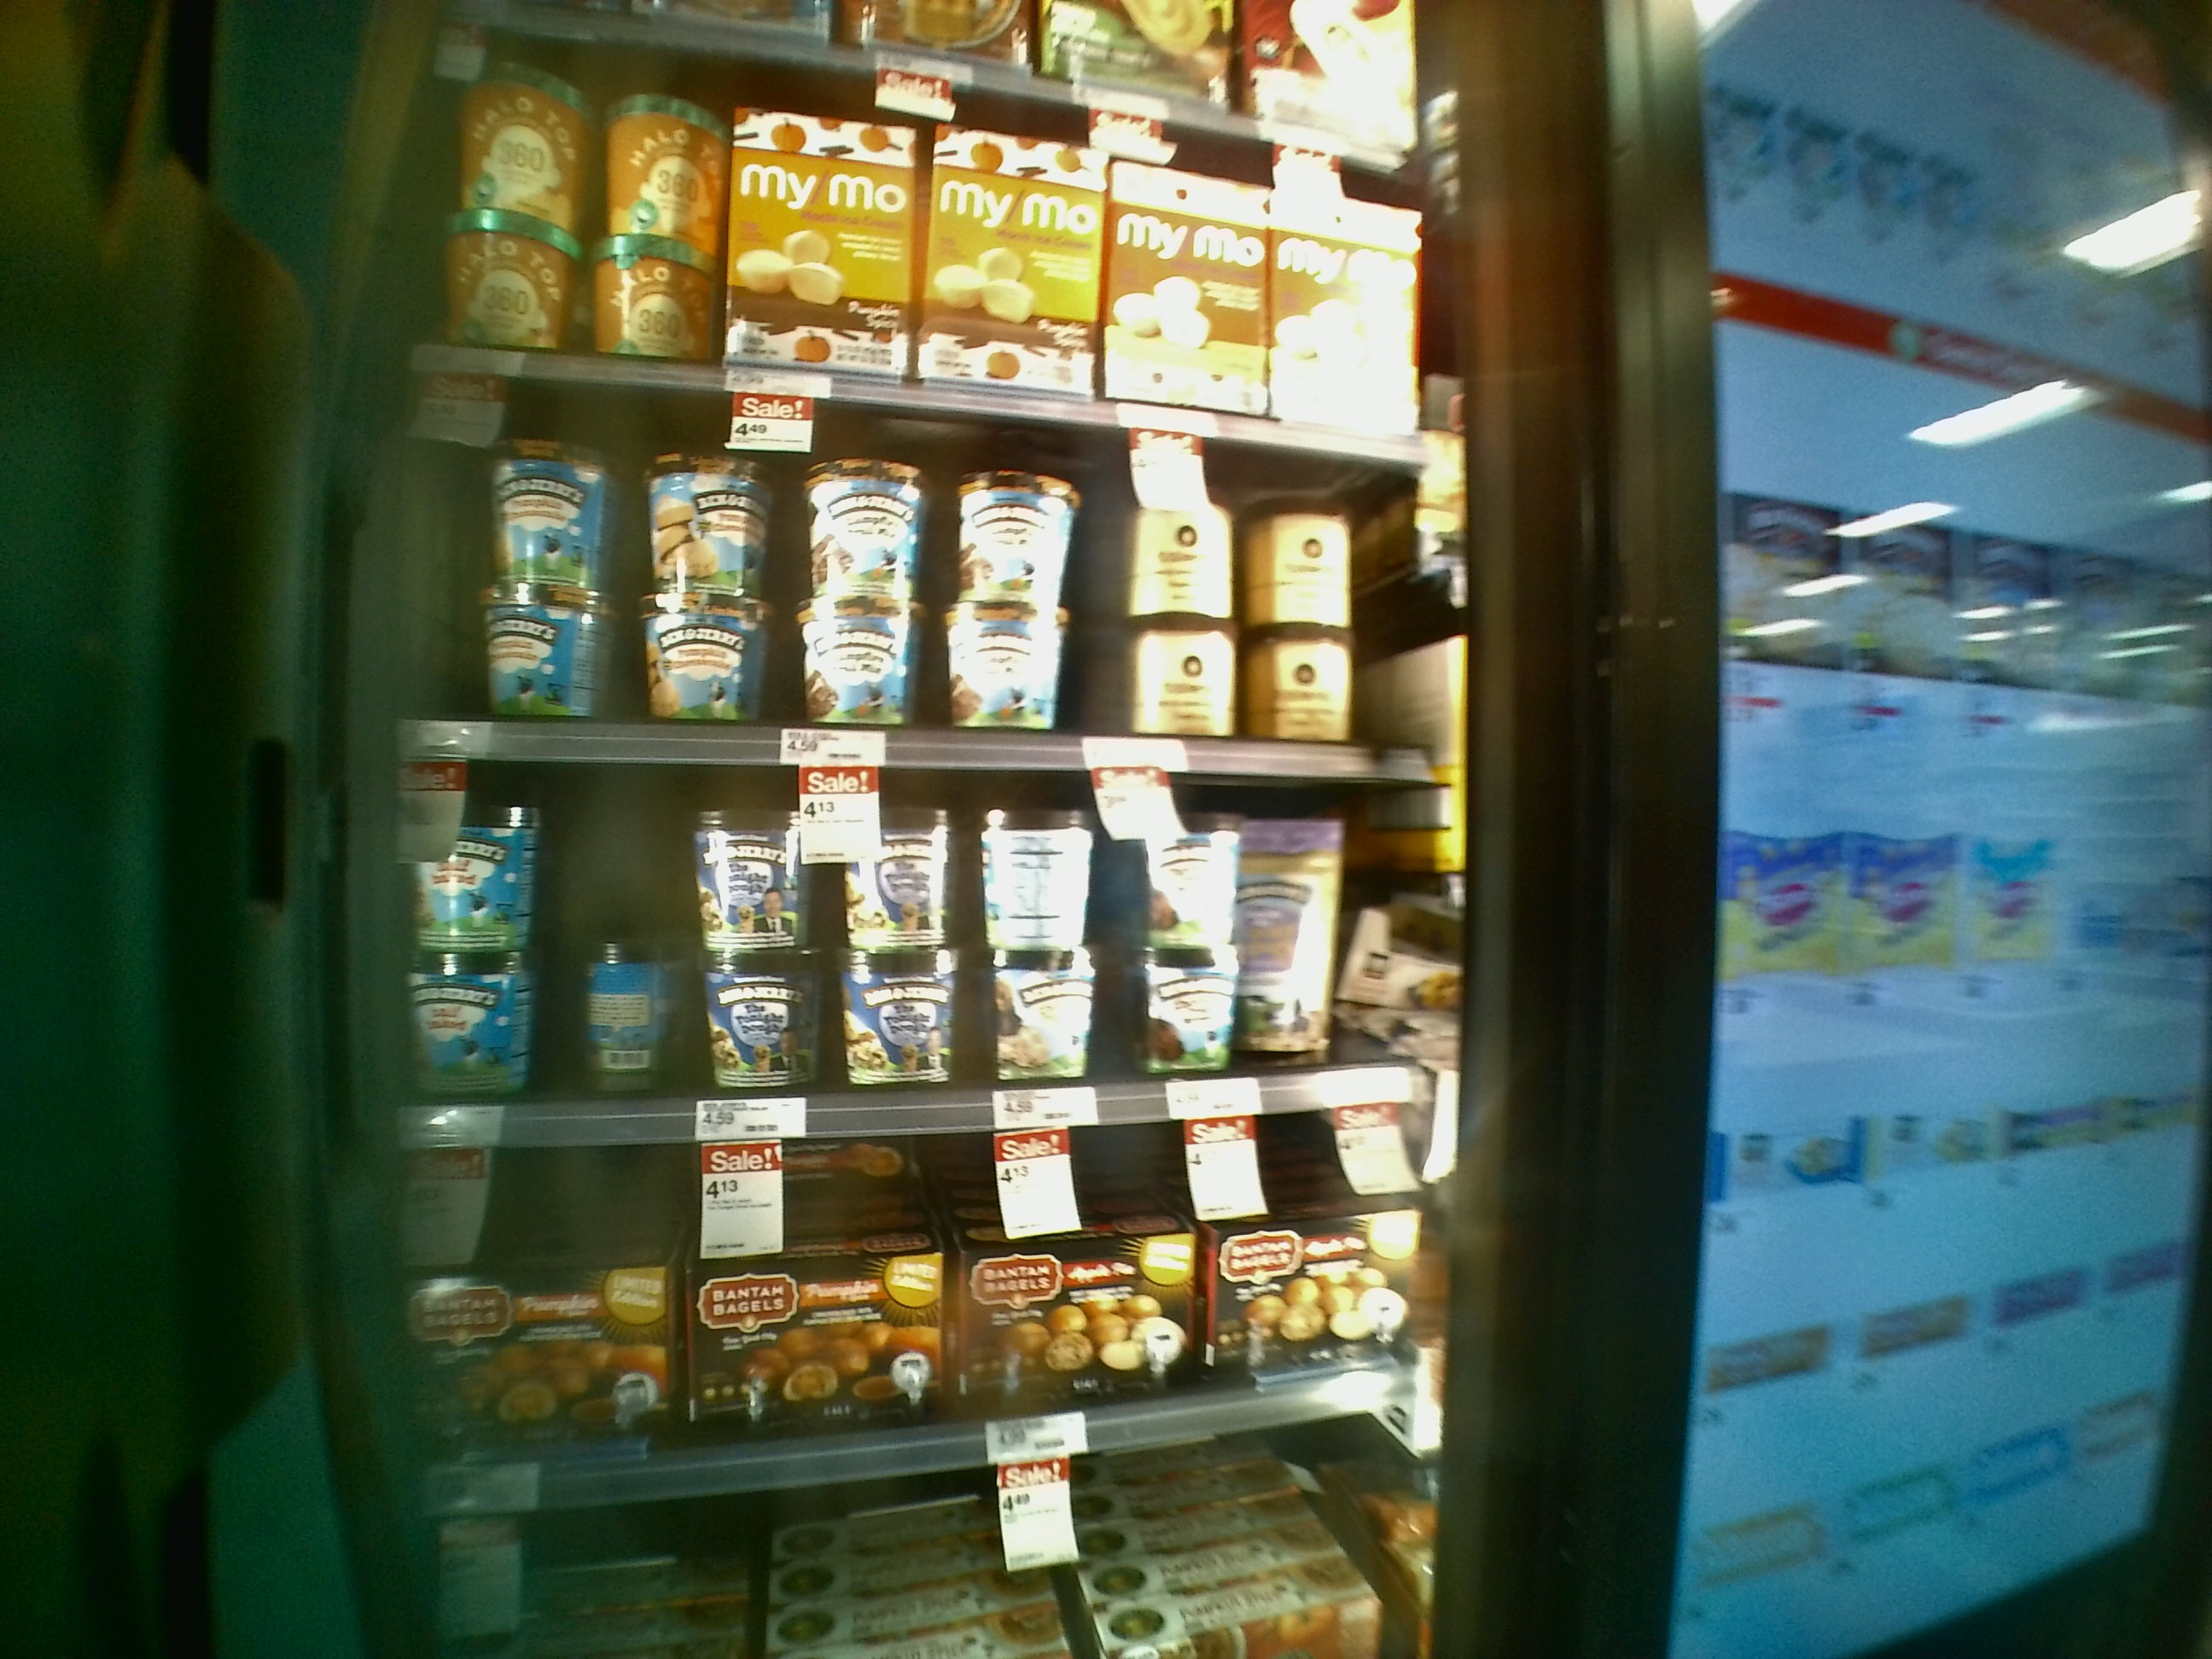shelf: (392, 396, 1479, 796), (394, 52, 1468, 457), (381, 748, 1432, 1143), (371, 1148, 1421, 1481)
